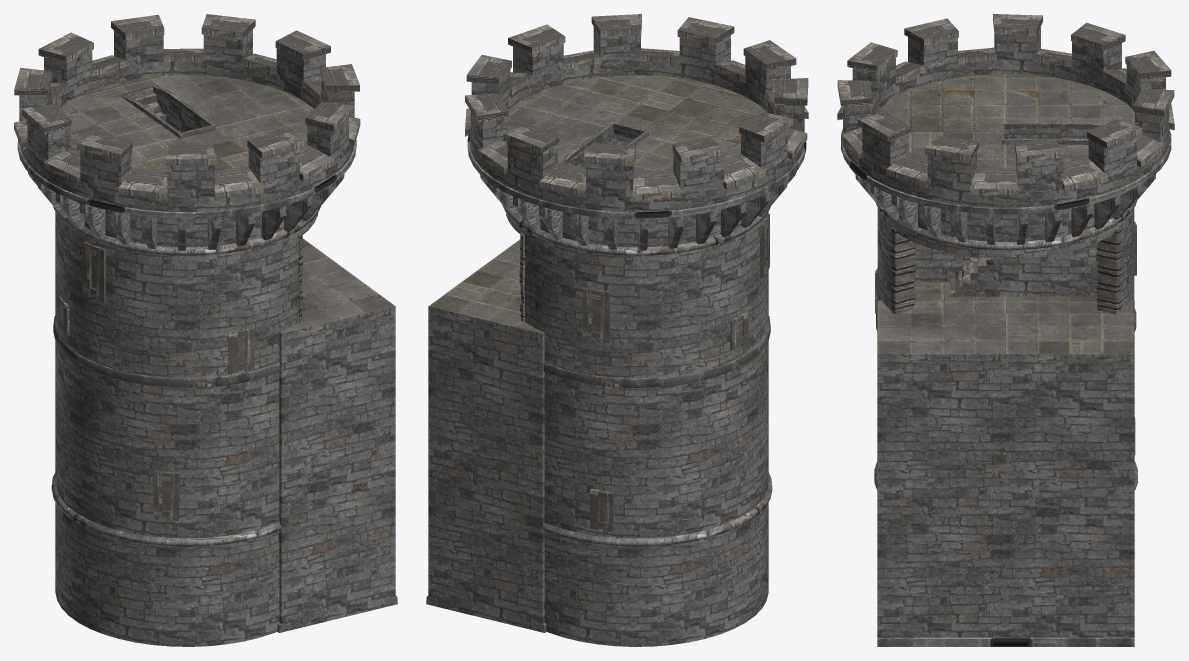
File: MC_Castle_Tower_B_Wall_15m.fbx
3 renders of one model, left to right at view 1: azimuth 30°, elevation 25°; view 2: azimuth 150°, elevation 25°; view 3: azimuth 270°, elevation 25°, orthographic. The views are drawn at different scales.
Visible parts, largest first — view 1: MC_Castle_Tower_B_Wall_15m_LOD0; view 2: MC_Castle_Tower_B_Wall_15m_LOD0; view 3: MC_Castle_Tower_B_Wall_15m_LOD0.
Boxes of the visible parts, <box> form: MC_Castle_Tower_B_Wall_15m_LOD0: <box>14,14,397,646</box>; MC_Castle_Tower_B_Wall_15m_LOD0: <box>426,14,808,646</box>; MC_Castle_Tower_B_Wall_15m_LOD0: <box>837,14,1174,646</box>.
Size of what is drawn, in the model's own units: 1048 by 1690 by 1049.
